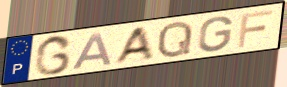A: (110, 25, 155, 67), (70, 31, 115, 71)
F: (236, 8, 275, 49)
G: (33, 34, 74, 76), (196, 15, 234, 54)
Q: (155, 19, 195, 59)
